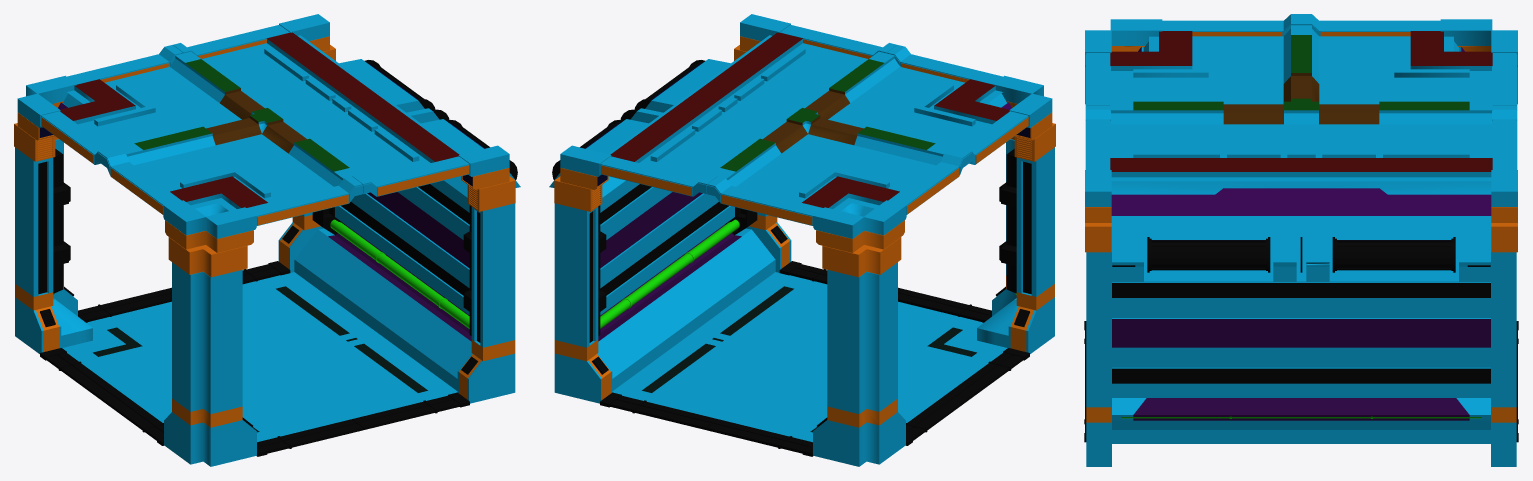
Rendered from sf_sam.fbx.
3 views of the same model, side by side, from view 1: azimuth 30°, elevation 25°; view 2: azimuth 150°, elevation 25°; view 3: azimuth 270°, elevation 25° (orthographic). The views are drawn at different scales.
Visible parts, largest first — view 1: Cylinder004; view 2: Cylinder004; view 3: Cylinder004.
Part boxes in pixels (x1=…): Cylinder004: x1=14, y1=14, x2=520, y2=466; Cylinder004: x1=549, y1=14, x2=1055, y2=466; Cylinder004: x1=1084, y1=14, x2=1518, y2=466.
Size of the model in its own units: 83.3 by 55.98 by 79.17.
